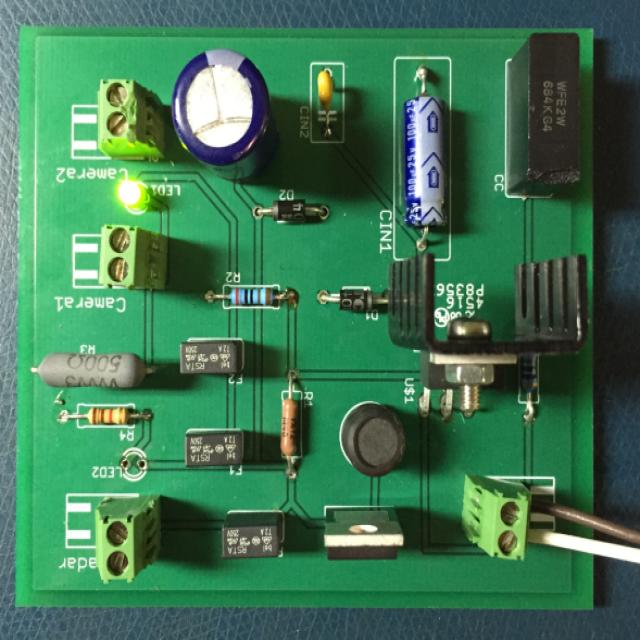pcb: (14, 24, 599, 611), (461, 472, 531, 560), (93, 493, 161, 583), (96, 77, 165, 162), (98, 222, 168, 290), (323, 504, 404, 560), (220, 508, 284, 558), (308, 60, 344, 143), (178, 336, 244, 374), (184, 427, 244, 468)
